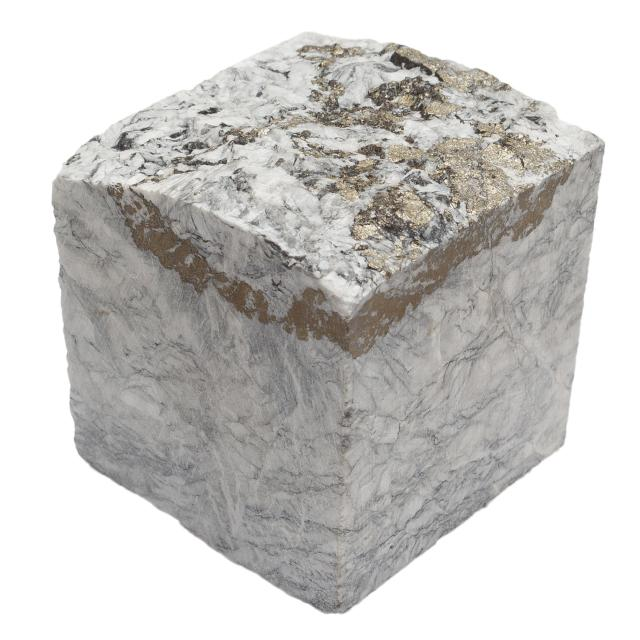Sedimentary: (47, 19, 606, 606)
